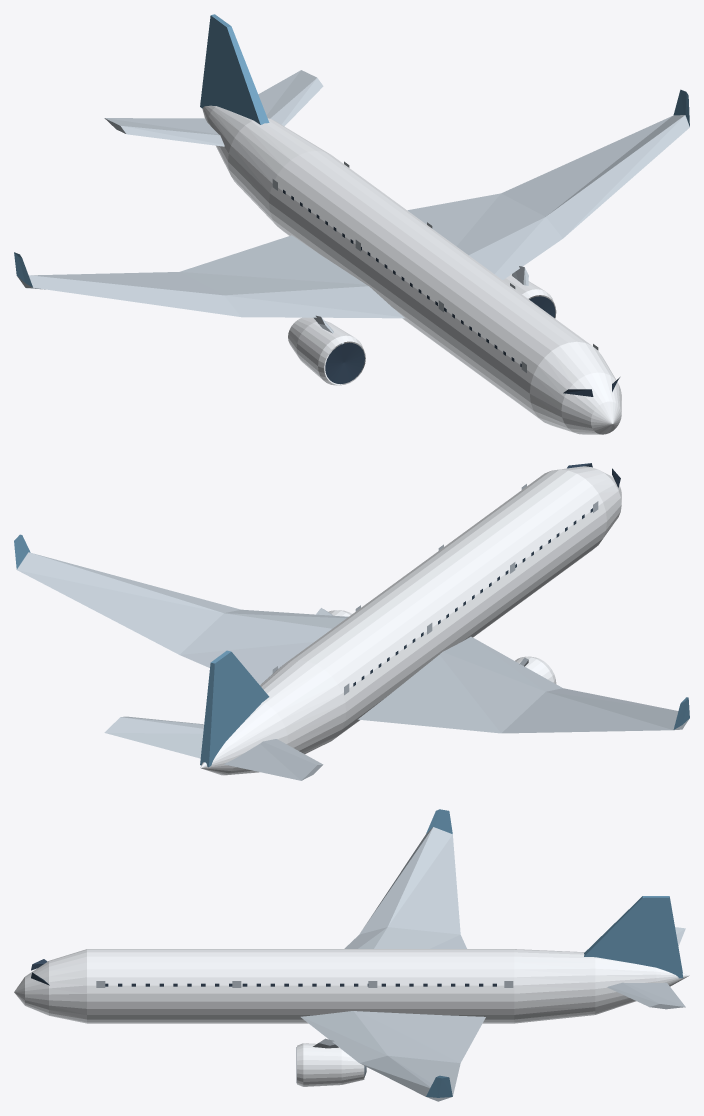
3 views of the same model, one above another, from view 1: azimuth 30°, elevation 25°; view 2: azimuth 150°, elevation 25°; view 3: azimuth 270°, elevation 25° (orthographic). The views are drawn at different scales.
Size of the model in its own units: 34.5 by 9.06 by 37.
